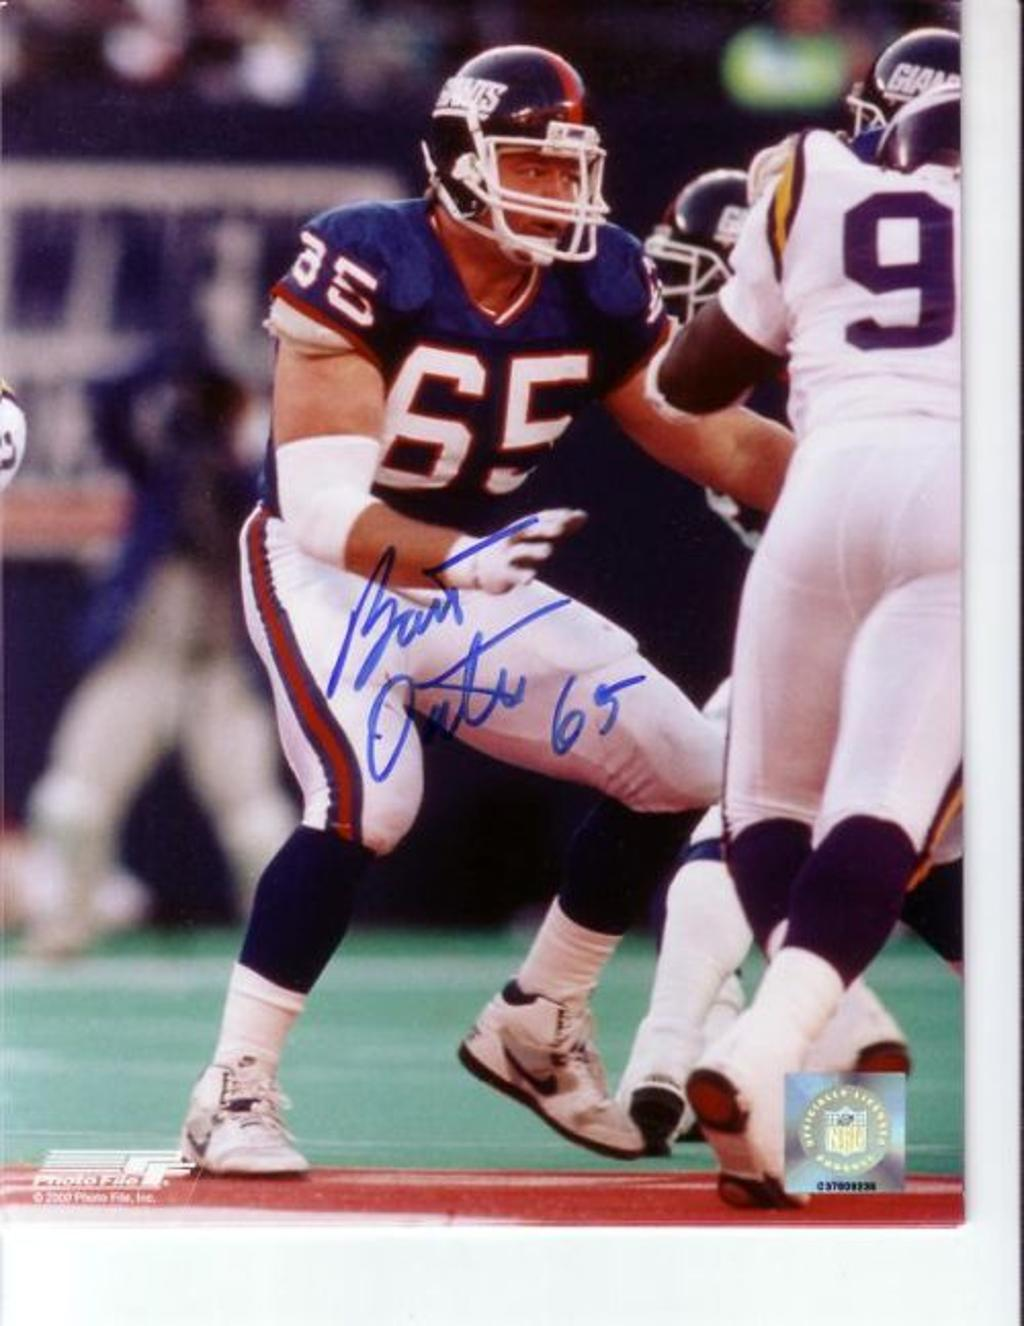face: (494, 134, 587, 261)
